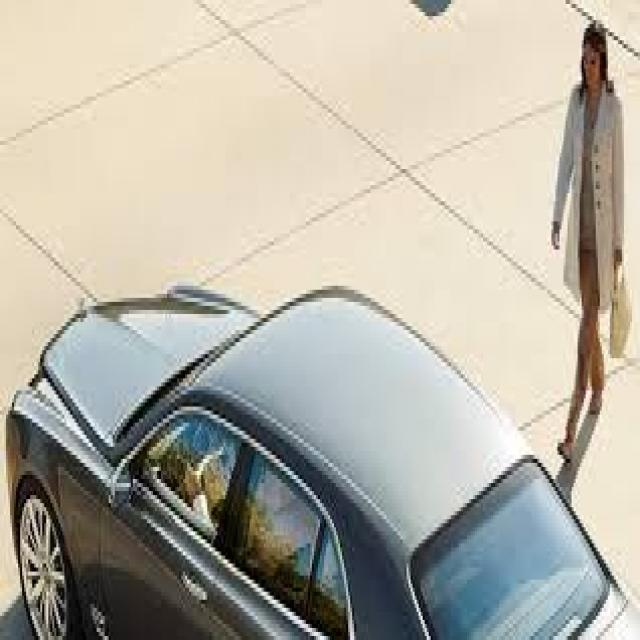car: (2, 283, 640, 640)
person: (547, 22, 636, 466)
